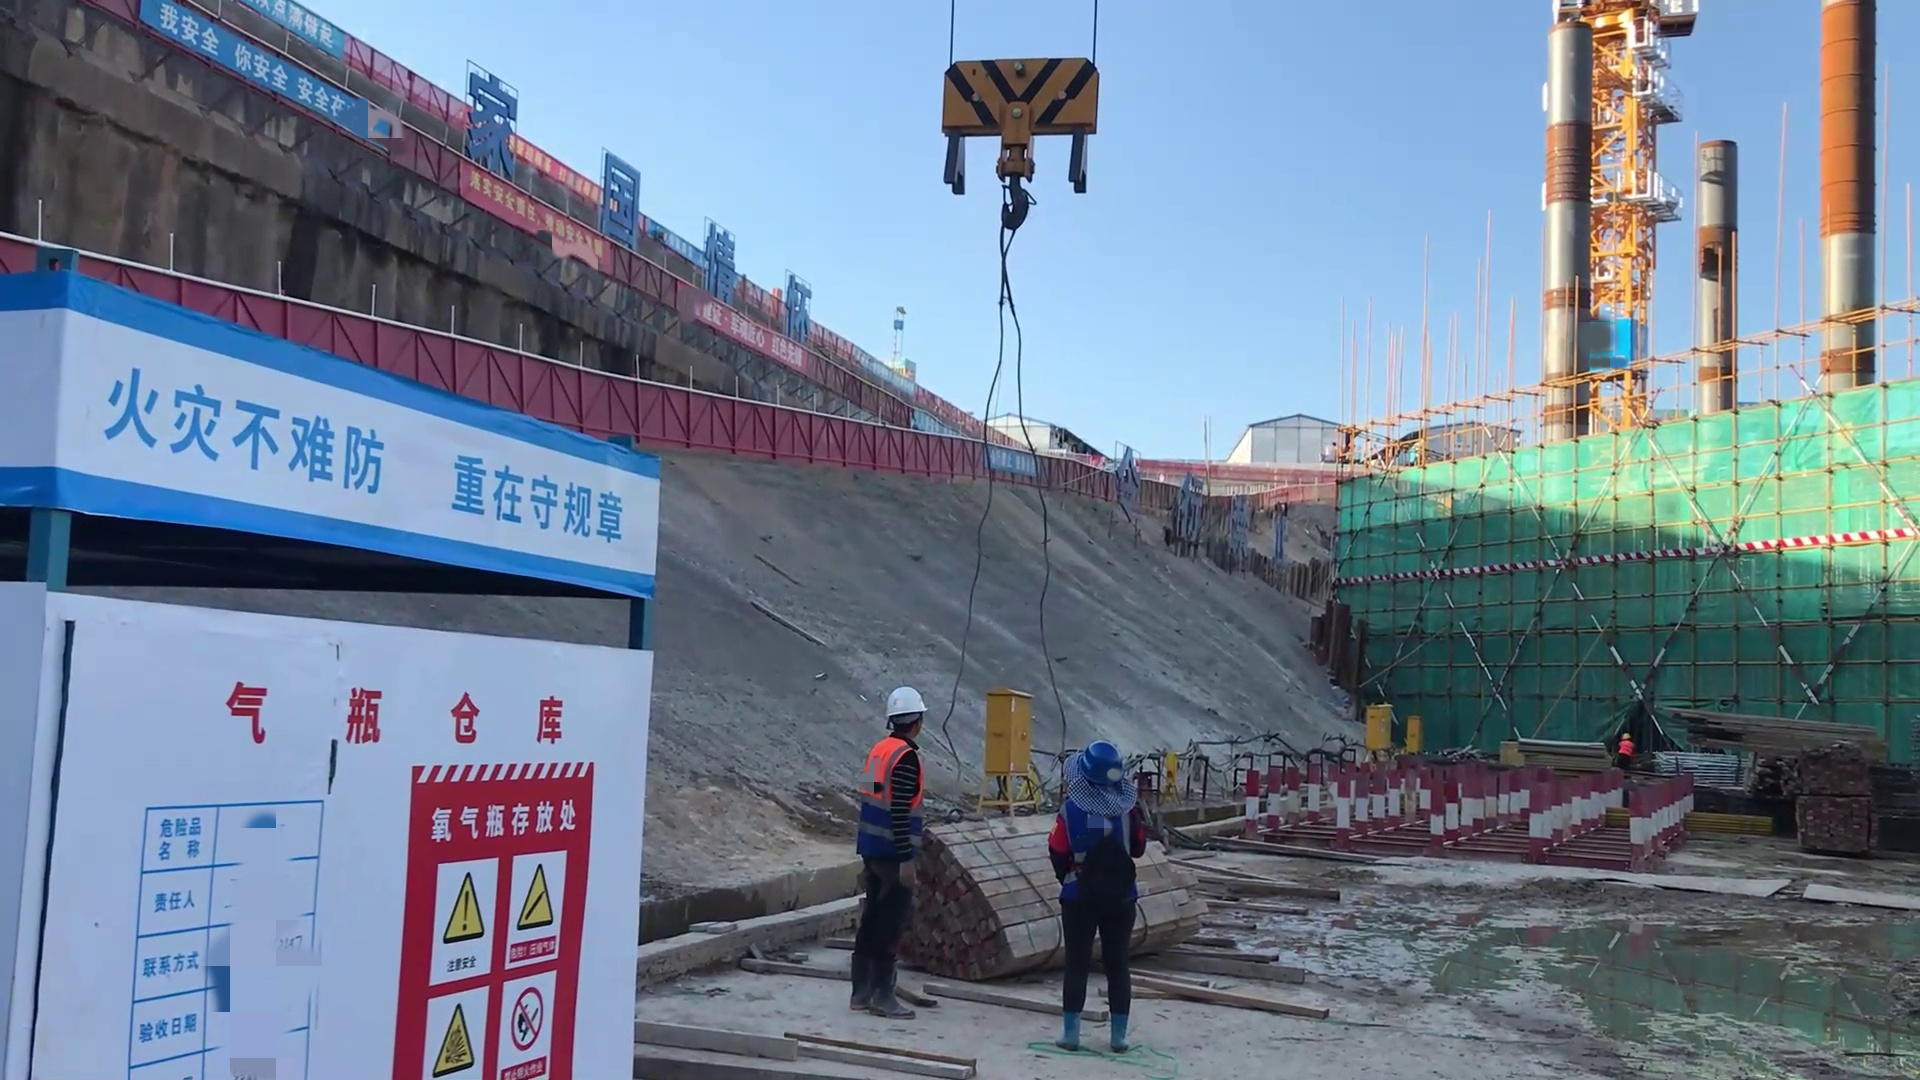ebox: (977, 688, 1040, 774), (1365, 699, 1391, 747), (1407, 716, 1419, 756)
fence: (674, 386, 856, 471), (856, 427, 974, 478)
helmet: (1072, 738, 1131, 794), (877, 680, 928, 725), (1619, 731, 1632, 743)
hook: (925, 52, 1091, 201)
person: (1044, 734, 1146, 1062), (843, 680, 929, 1017), (1611, 729, 1638, 768)
slogan: (84, 355, 632, 553), (122, 1, 388, 187), (397, 137, 640, 313), (411, 837, 580, 1080)
vest: (847, 736, 931, 855), (1616, 740, 1630, 757)
wood: (930, 826, 1051, 990), (1677, 700, 1874, 782)
